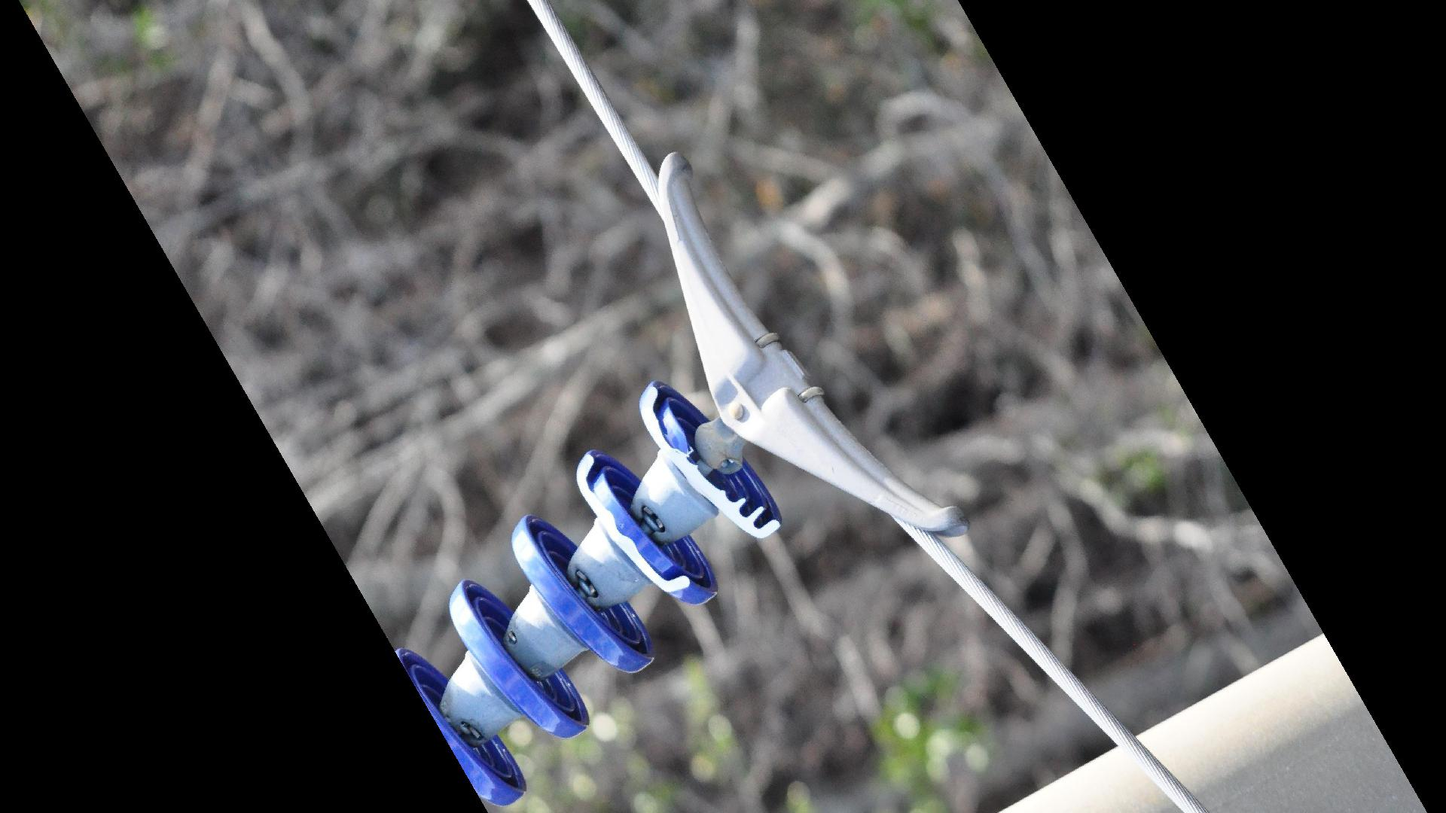insulator: (387, 376, 789, 813)
insulator_breakage: (634, 379, 786, 546), (567, 446, 700, 601)
